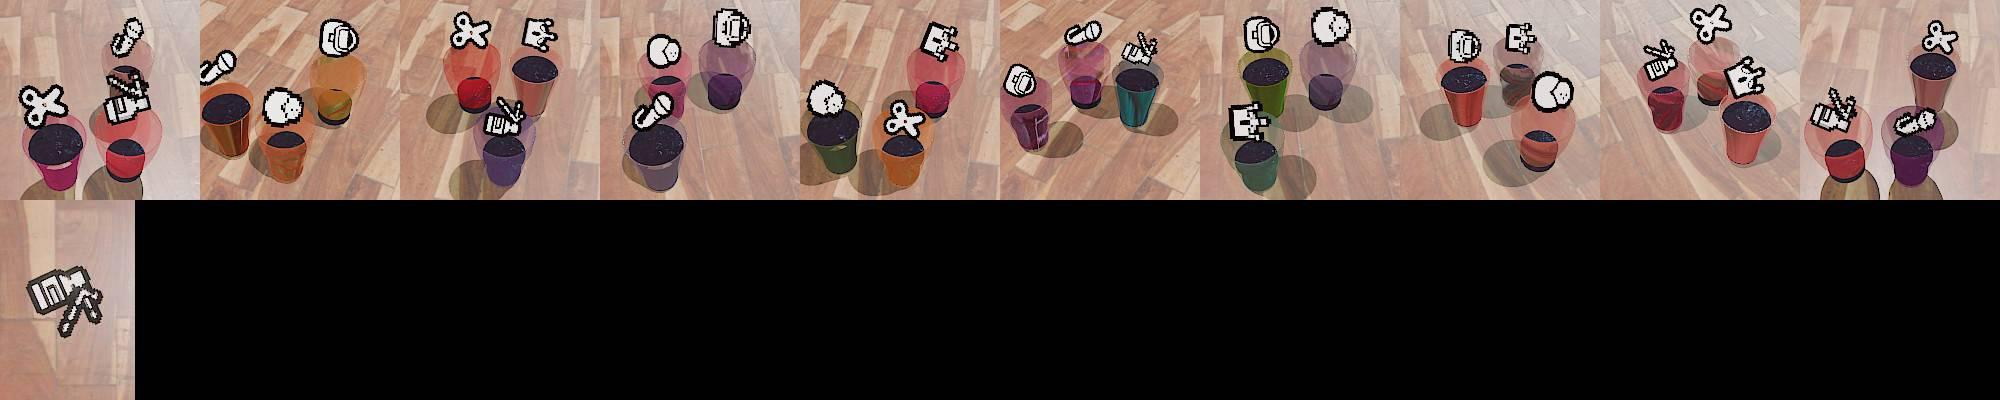icon: (24, 265, 103, 340), (102, 73, 152, 125), (1807, 88, 1858, 135), (19, 83, 70, 127), (1723, 55, 1768, 99), (1689, 3, 1732, 46), (883, 97, 927, 139), (1532, 70, 1575, 112), (260, 87, 305, 127), (485, 94, 527, 136), (1228, 101, 1269, 143), (1310, 6, 1352, 47), (631, 90, 675, 130), (1642, 38, 1680, 83), (318, 18, 358, 59), (450, 10, 492, 50), (712, 8, 751, 48), (921, 20, 960, 59), (806, 78, 844, 116), (522, 15, 560, 54), (199, 48, 237, 87), (1120, 31, 1159, 68), (111, 17, 147, 57), (1244, 17, 1281, 54), (1922, 19, 1959, 55), (647, 33, 682, 70), (1448, 28, 1482, 65), (1893, 107, 1936, 135), (1003, 64, 1036, 98), (1504, 20, 1537, 55), (1062, 19, 1101, 47)
